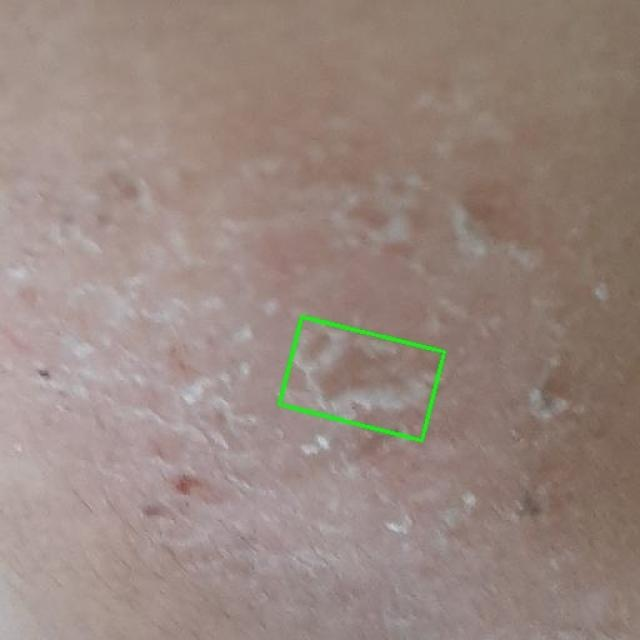Atopic Dermatitis: (280, 316, 444, 440)
